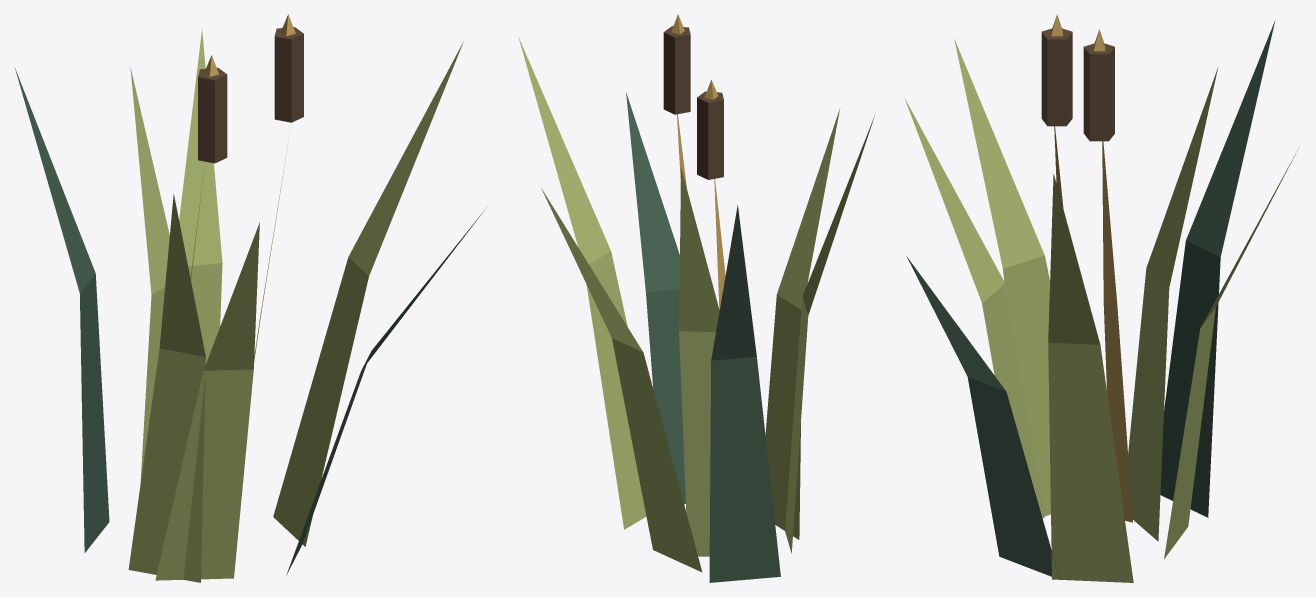
Rendered from reeds-tall.glb.
3 renders of one model, left to right at view 1: azimuth 30°, elevation 25°; view 2: azimuth 150°, elevation 25°; view 3: azimuth 270°, elevation 25°, orthographic. The views are drawn at different scales.
Visible parts, largest first — view 1: reeds-tall; view 2: reeds-tall; view 3: reeds-tall.
Boxes of the visible parts, left/top/right/bottom form: reeds-tall: left=15, top=14, right=486, bottom=582; reeds-tall: left=518, top=14, right=874, bottom=582; reeds-tall: left=904, top=14, right=1299, bottom=582.
Bounding box in the file's own units: 1.51 × 2.25 × 1.45.
1 material, 1 textured.
